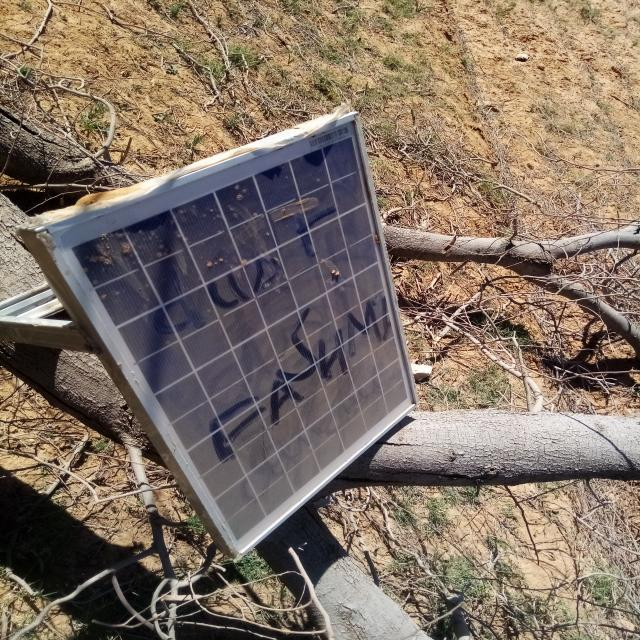faulty: (45, 116, 418, 559)
